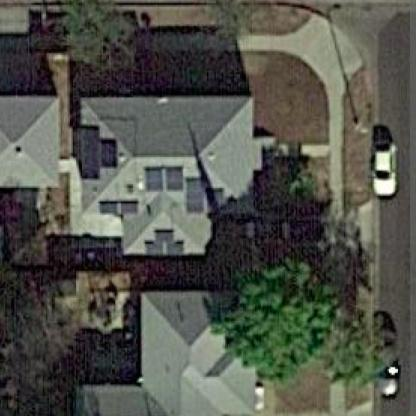car: (357, 328, 403, 403), (361, 134, 400, 209)
solar_panel: (141, 163, 208, 213), (74, 119, 123, 185), (99, 193, 148, 224), (143, 228, 192, 259)
